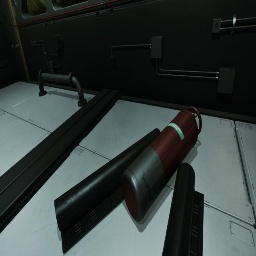NitrogenTank ,: (121, 106, 202, 222)
